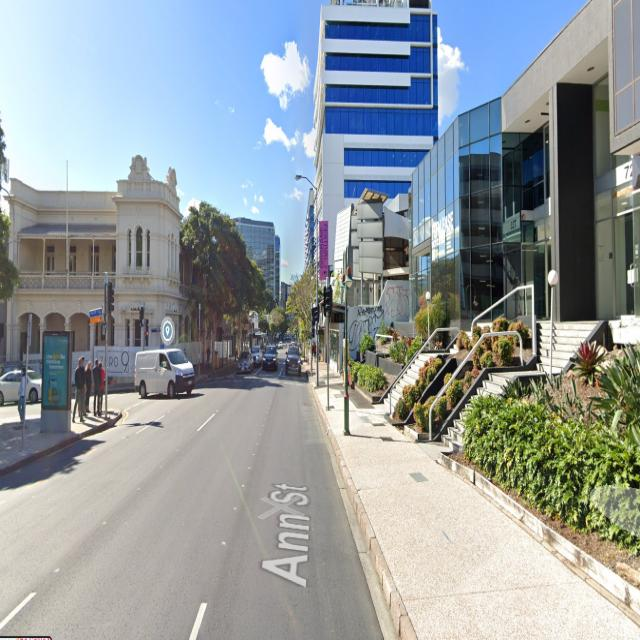light pole: (293, 174, 319, 388)
steel-pole: (325, 275, 330, 410), (104, 274, 108, 421), (316, 188, 318, 390)
streetlight: (294, 173, 316, 190)
traffic pole: (104, 272, 119, 421), (323, 275, 333, 411)
traffic-light: (322, 286, 333, 318), (104, 282, 114, 314)
